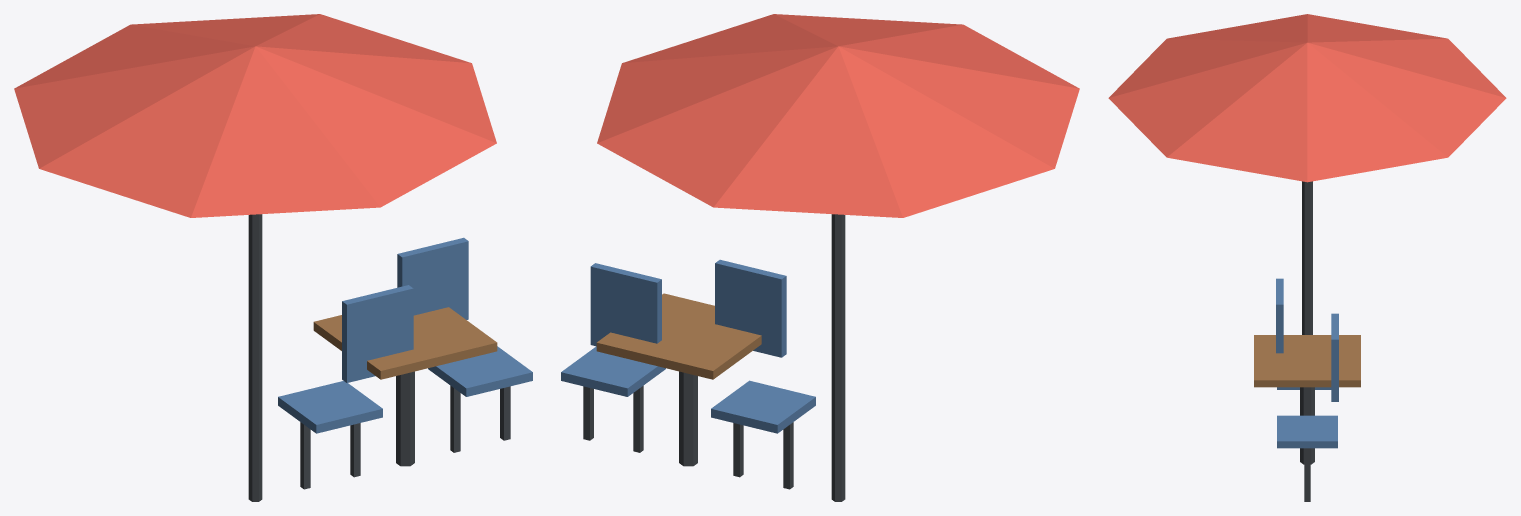
File: prop.cafe-patio.glb
The picture shows the model from 3 angles, left to right: view 1: azimuth 30°, elevation 25°; view 2: azimuth 150°, elevation 25°; view 3: azimuth 270°, elevation 25°; orthographic projection. The views are drawn at different scales.
Parts seen in each view (by area): view 1: prop.cafe-patio; view 2: prop.cafe-patio; view 3: prop.cafe-patio.
Boxes of the visible parts, <box> form: prop.cafe-patio: <box>14,14,532,501</box>; prop.cafe-patio: <box>561,14,1079,501</box>; prop.cafe-patio: <box>1108,14,1506,501</box>.
Size of the model in its own units: 2.85 by 2.6 by 2.6.
